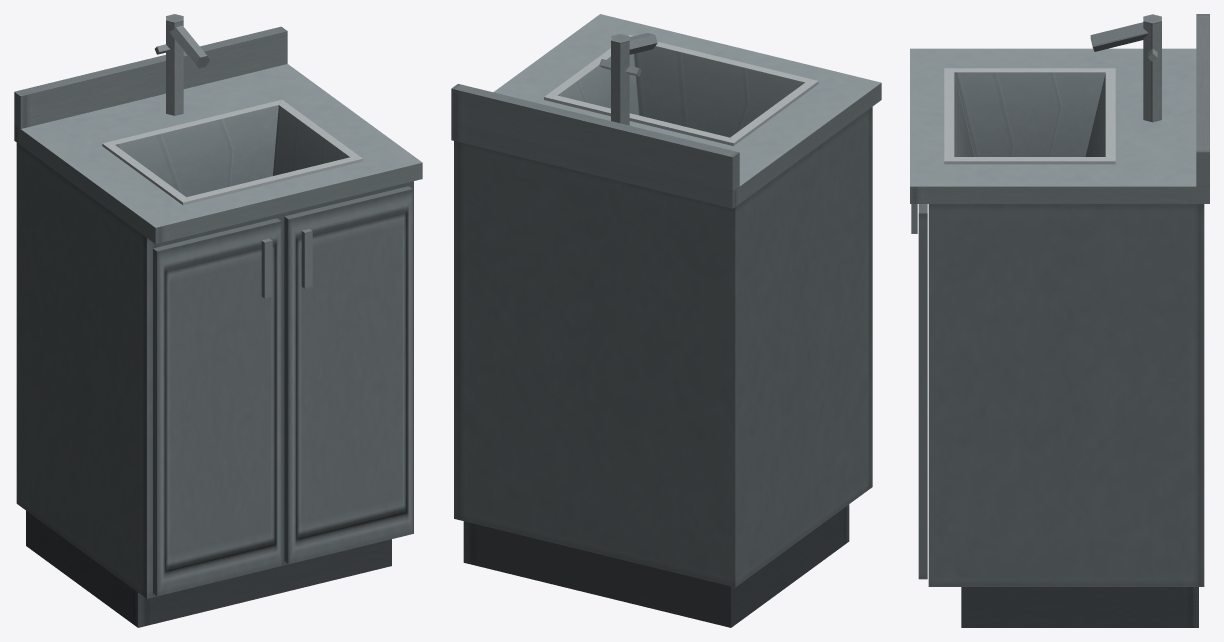
Rendered from sink.glb.
3 views of the same model, side by side, from view 1: azimuth 30°, elevation 25°; view 2: azimuth 150°, elevation 25°; view 3: azimuth 270°, elevation 25° (orthographic). The views are drawn at different scales.
Visible parts, largest first — view 1: core_sink; view 2: core_sink; view 3: core_sink.
Part boxes in pixels (box(x1,y1,x2,y2)): core_sink: box(14, 14, 422, 627); core_sink: box(451, 14, 881, 627); core_sink: box(910, 14, 1209, 627).
Bounding box in the file's own units: 0.6 × 1.1 × 0.55.
1 material, 1 textured.
